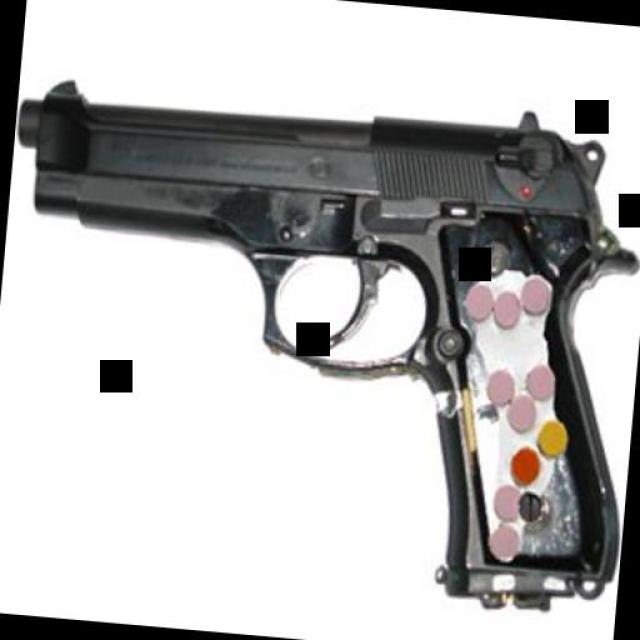gun: (0, 75, 640, 626)
